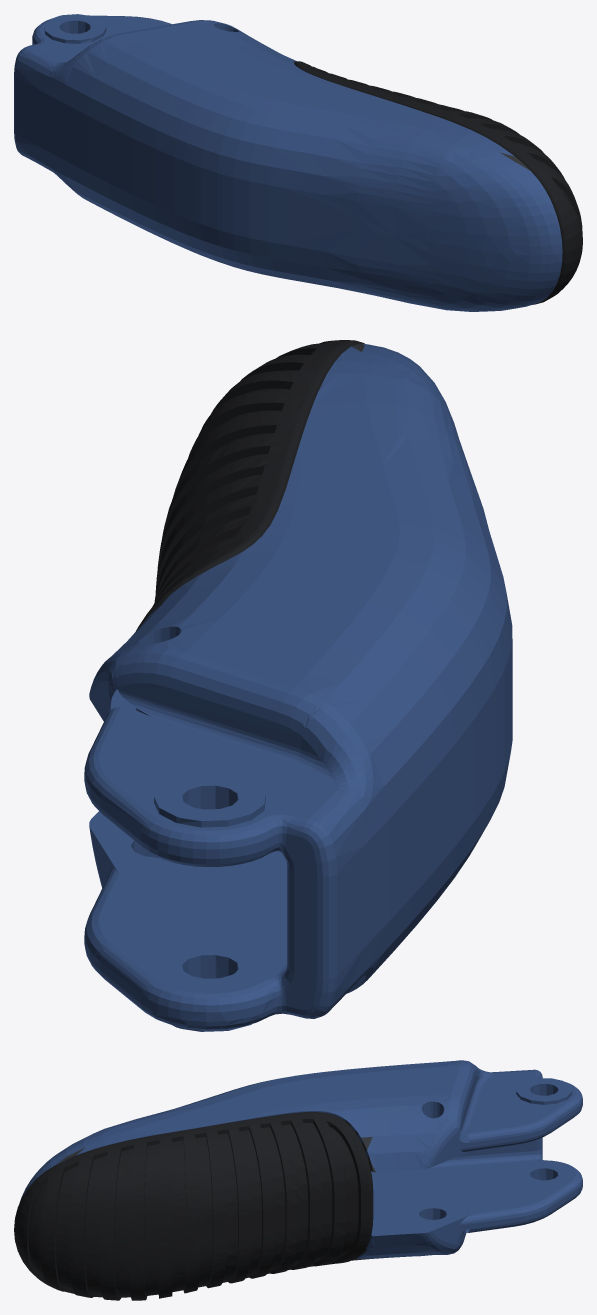
The model's file is rh_ring_distal_vis.obj.
3 renders of one model, top to bottom at view 1: azimuth 30°, elevation 25°; view 2: azimuth 150°, elevation 25°; view 3: azimuth 270°, elevation 25°, orthographic. The views are drawn at different scales.
Visible parts, largest first — view 1: rh_ring_distal; view 2: rh_ring_distal; view 3: rh_ring_distal.
Part boxes in pixels (x1=…): rh_ring_distal: x1=14, y1=14, x2=582, y2=311; rh_ring_distal: x1=84, y1=340, x2=512, y2=1031; rh_ring_distal: x1=14, y1=1060, x2=582, y2=1300.
Size of the model in its own units: 0.0223 by 0.0122 by 0.0403.
Materials: 1 (1 with a texture image).
